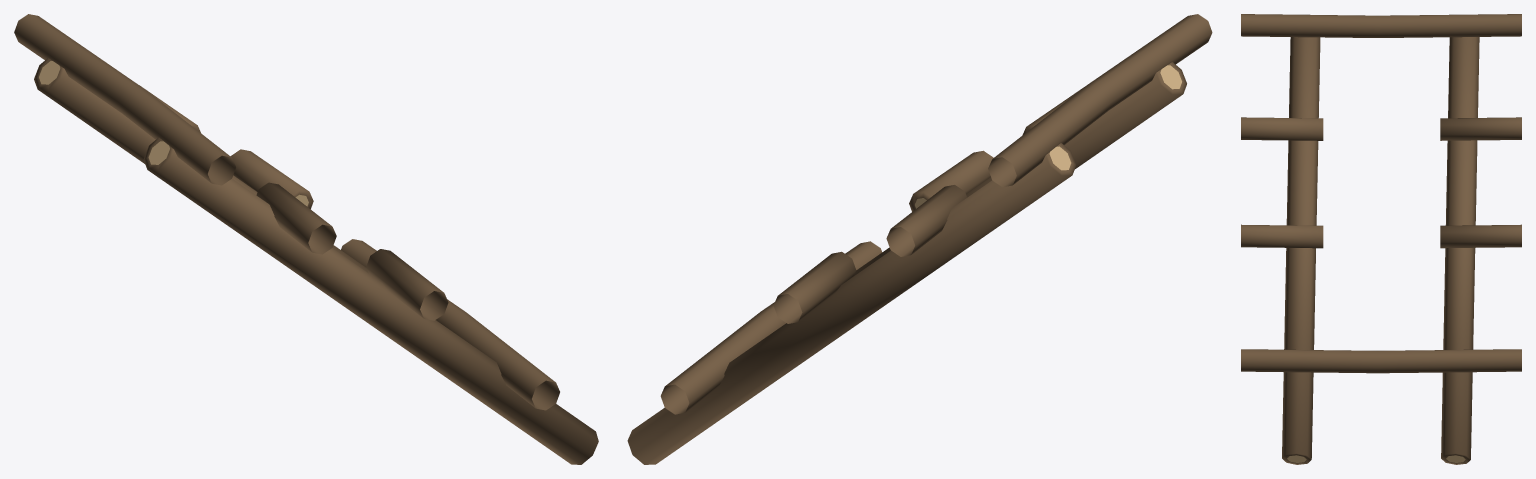
The model's file is rpgpp_ag_roof_support_01_6x3x3_half_b_chimney_01.fbx.
3 views of the same model, side by side, from view 1: azimuth 30°, elevation 25°; view 2: azimuth 150°, elevation 25°; view 3: azimuth 270°, elevation 25° (orthographic). The views are drawn at different scales.
Visible parts, largest first — view 1: rpgpp_ag_roof_support_01_6x3x3_half_b_chimney_01; view 2: rpgpp_ag_roof_support_01_6x3x3_half_b_chimney_01; view 3: rpgpp_ag_roof_support_01_6x3x3_half_b_chimney_01.
Part boxes in pixels (x1,y1,x2,y2): rpgpp_ag_roof_support_01_6x3x3_half_b_chimney_01: (14,14,598,464); rpgpp_ag_roof_support_01_6x3x3_half_b_chimney_01: (627,14,1212,464); rpgpp_ag_roof_support_01_6x3x3_half_b_chimney_01: (1241,14,1521,464).
Bounding box in the file's own units: 3.96 × 3.69 × 3.
